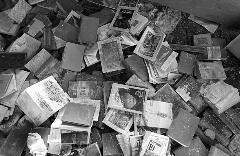paper: (16, 76, 70, 126), (166, 108, 200, 148), (106, 83, 148, 115), (203, 80, 239, 114), (133, 26, 165, 62), (136, 100, 172, 130), (97, 37, 125, 73), (102, 108, 134, 136), (61, 102, 95, 128), (76, 11, 100, 43), (122, 54, 148, 82), (60, 42, 84, 72), (140, 132, 170, 156), (175, 76, 201, 102), (188, 14, 220, 34), (196, 61, 226, 81), (27, 132, 48, 156)
